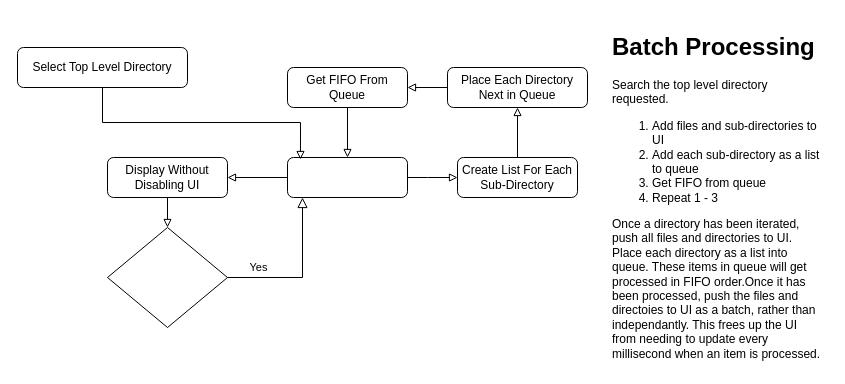
This 845x384 diagram has some shape labels left out. Here are the shapes that lost their labels. From the top down, the box of each, then its label:
(286, 156, 408, 198): Iterate/Process Each File/Directory
(106, 226, 228, 328): User Opened Directory Node?
